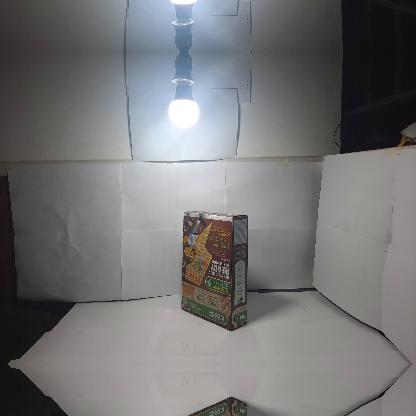Koko-Krunch: (180, 210, 247, 330)
